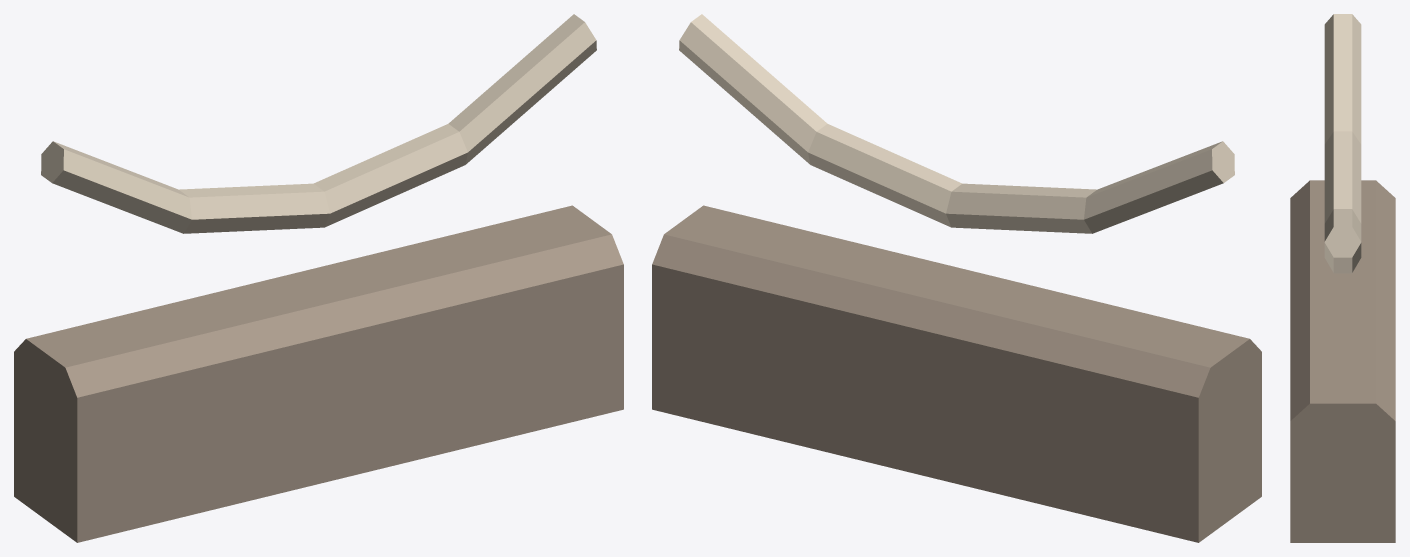
The model's file is Wood_Rope_Straight.glb.
3 renders of one model, left to right at view 1: azimuth 30°, elevation 25°; view 2: azimuth 150°, elevation 25°; view 3: azimuth 270°, elevation 25°, orthographic. The views are drawn at different scales.
Visible parts, largest first — view 1: object1, object2; view 2: object1, object2; view 3: object1, object2.
Part boxes in pixels (x1,y1,x2,y2): object1: [14, 205, 623, 542]; object2: [41, 14, 596, 233]; object1: [652, 205, 1261, 542]; object2: [679, 14, 1234, 233]; object1: [1290, 180, 1395, 542]; object2: [1324, 14, 1361, 273].
Size of the model in its own units: 1 by 0.6496 by 0.2.
